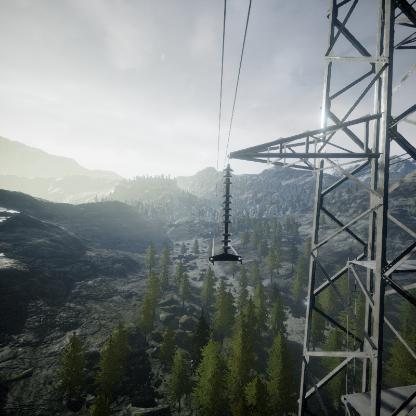insulator: (220, 162, 234, 251)
